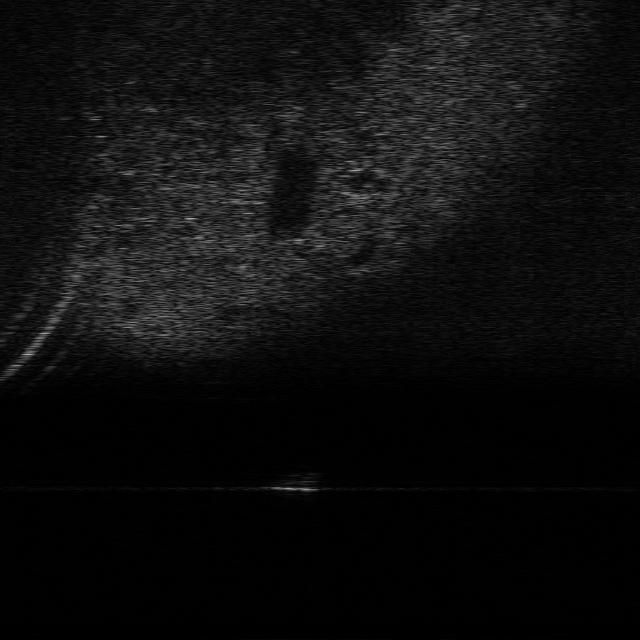cube: (278, 469, 322, 493)
